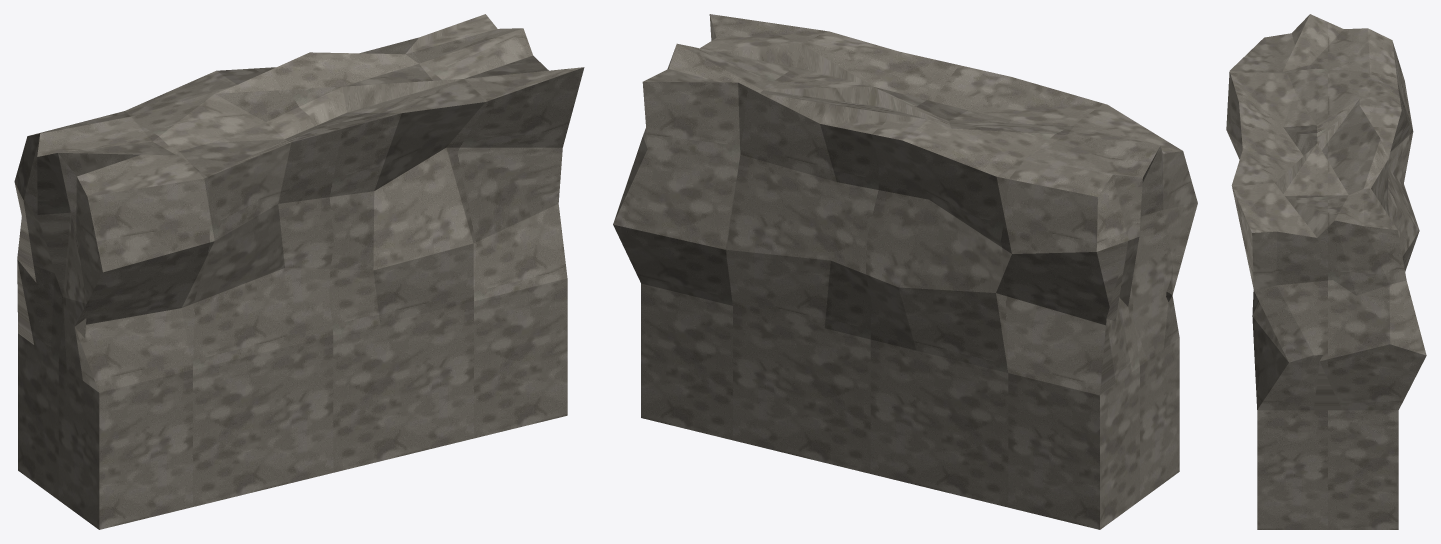
Rendered from cliff_section.glb.
3 views of the same model, side by side, from view 1: azimuth 30°, elevation 25°; view 2: azimuth 150°, elevation 25°; view 3: azimuth 270°, elevation 25° (orthographic). The views are drawn at different scales.
Visible parts, largest first — view 1: Cliff_Section; view 2: Cliff_Section; view 3: Cliff_Section.
Boxes of the visible parts, x1,y1,x2,y2 form: Cliff_Section: [14, 14, 584, 529]; Cliff_Section: [613, 14, 1197, 529]; Cliff_Section: [1226, 14, 1426, 529].
Bounding box in the file's own units: 10.56 × 7.3 × 4.25.
Materials: 1 (1 with a texture image).
